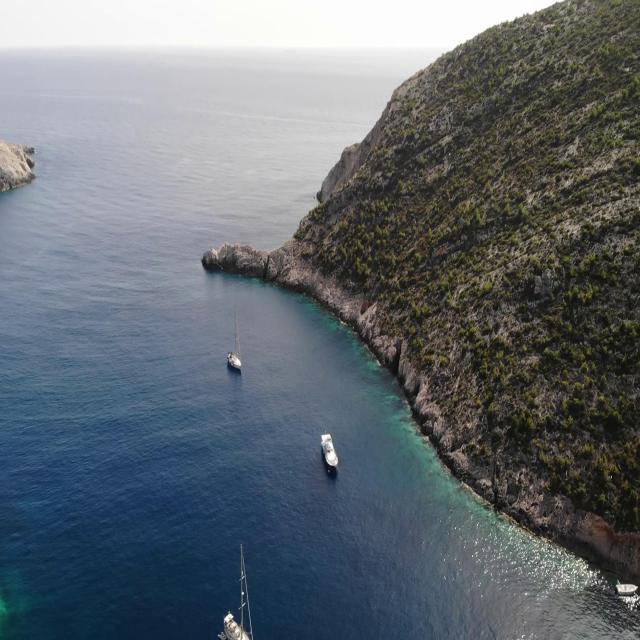boat: (320, 432, 340, 470), (616, 579, 638, 597), (218, 630, 226, 640)
sailboat: (226, 303, 242, 375)
